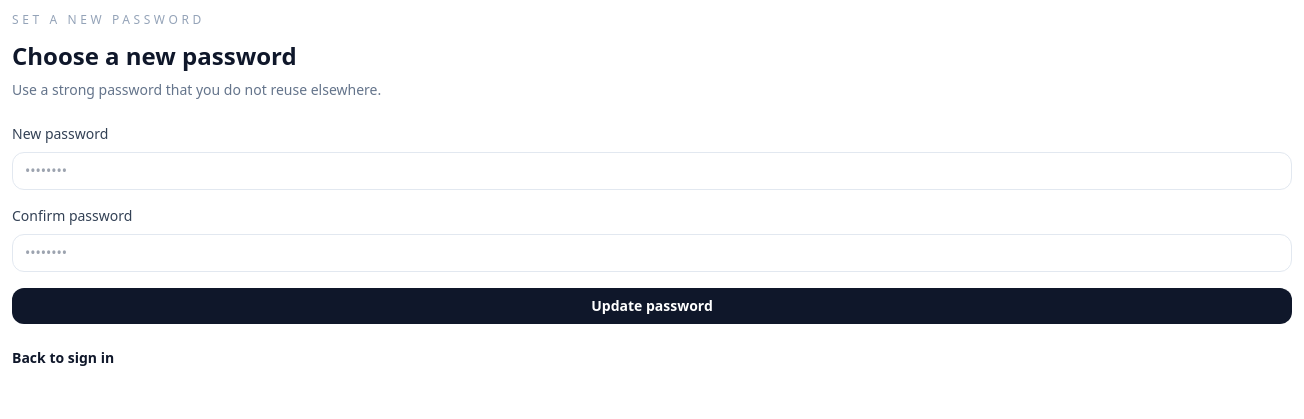
Scenario: UpdatePasswordPage › requires a recovery session to update password
Type "newpassword" into the password field labelled "New password". click: {"x": 652, "y": 171}
box: [12,152,1292,190]
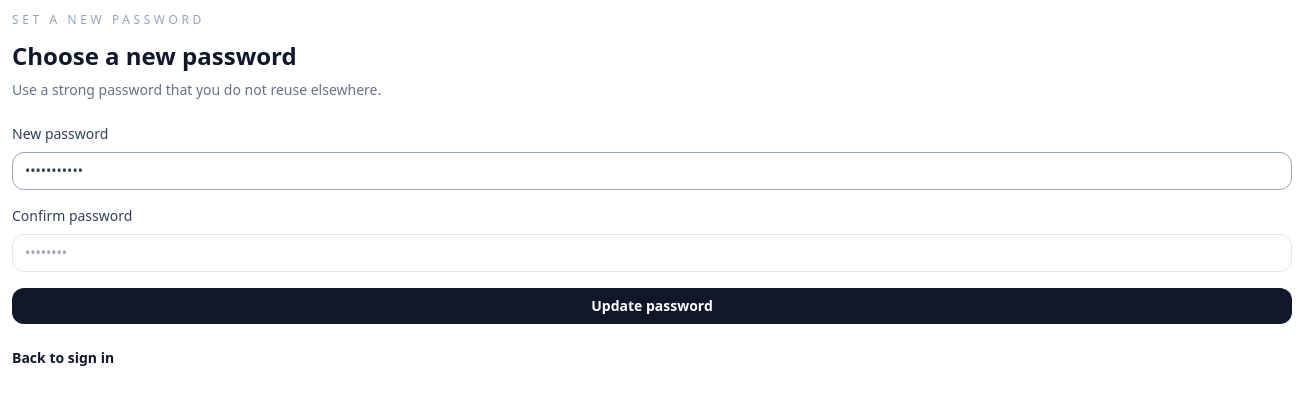
Type "newpassword" into the password field labelled "Confirm password". click: {"x": 652, "y": 253}
box: [12,234,1292,272]
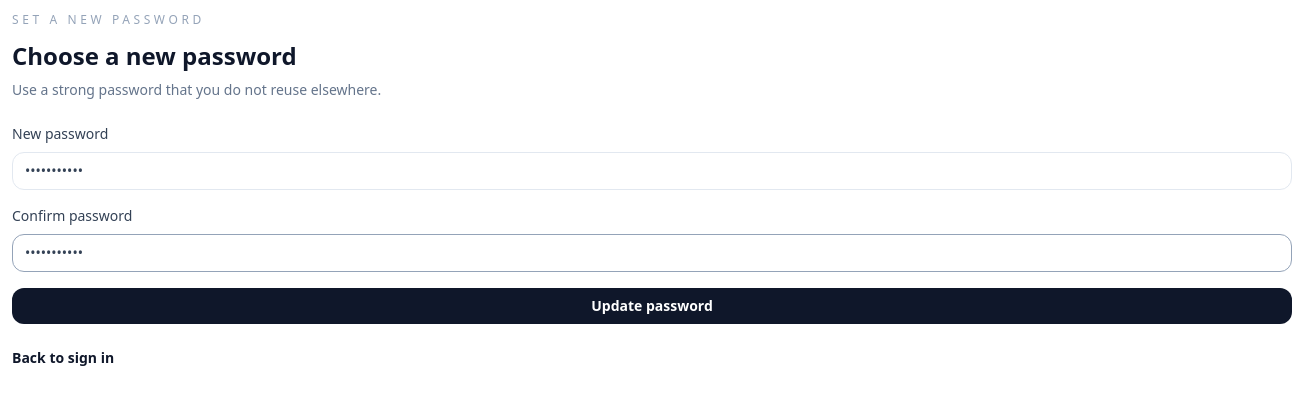
Click the button "Update password". click: {"x": 652, "y": 306}
box: [12,288,1292,324]
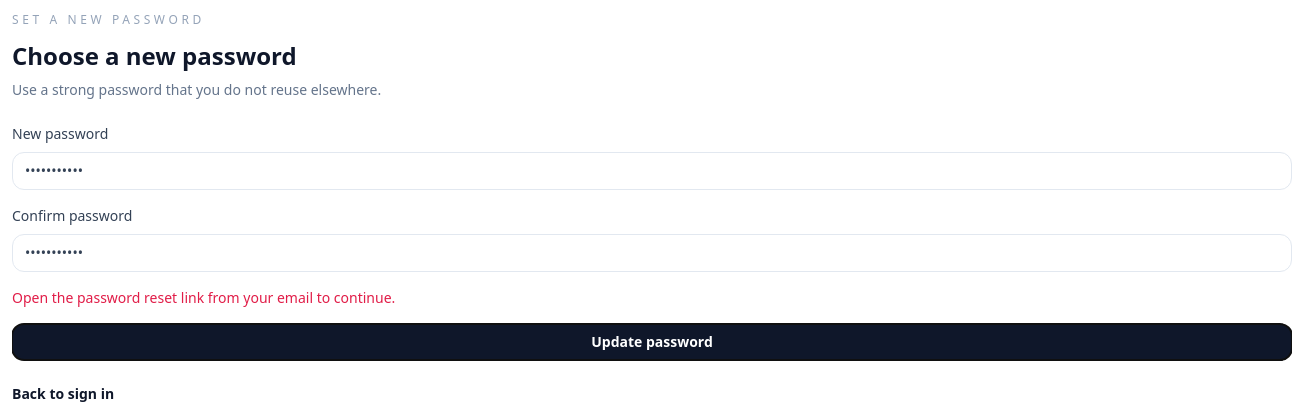
Expected: the text "Open the password reset link from your email to continue." is shown, [12,288,395,307]
